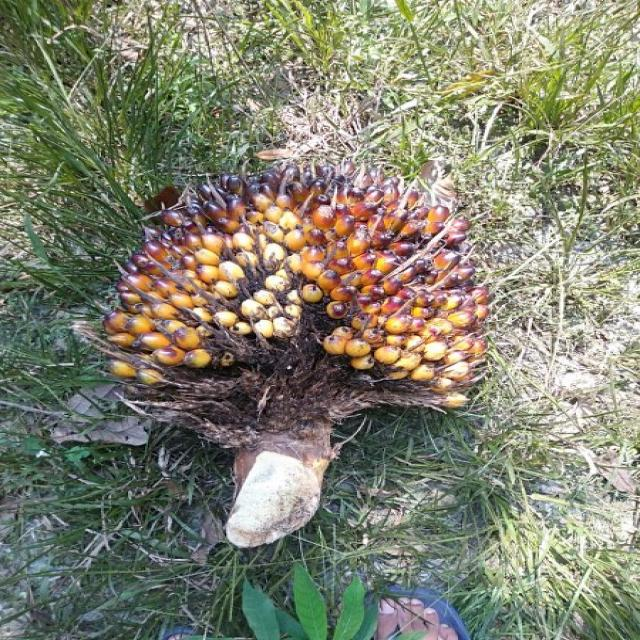fraksi 00: (94, 166, 494, 405)
